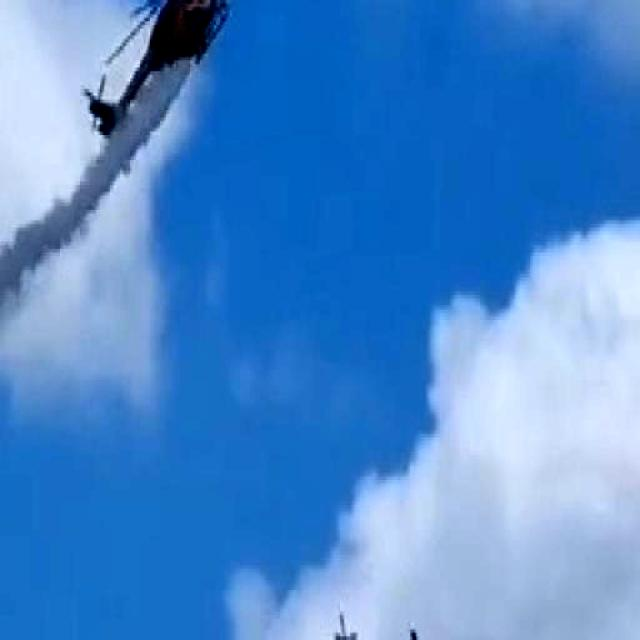drone: (78, 0, 230, 149), (328, 579, 490, 640)
